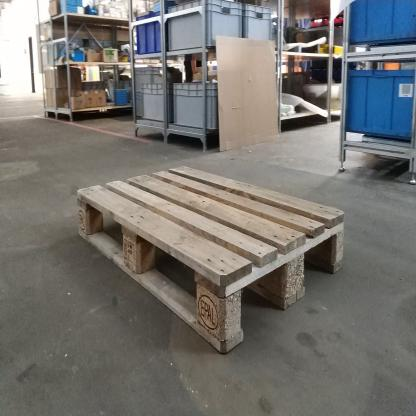BoxFace: (76, 159, 348, 361)
